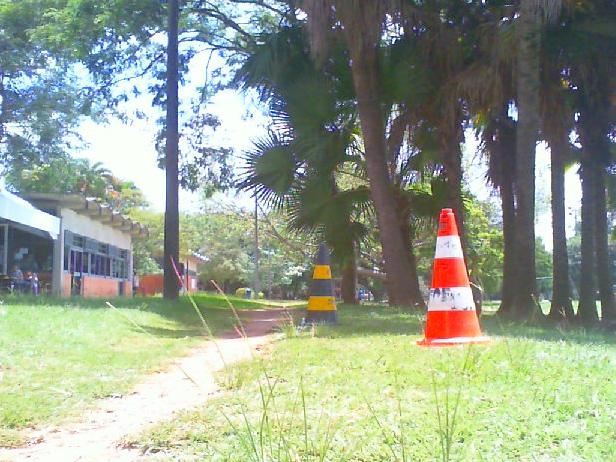0 cone: (418, 207, 493, 346), (302, 244, 343, 326)
